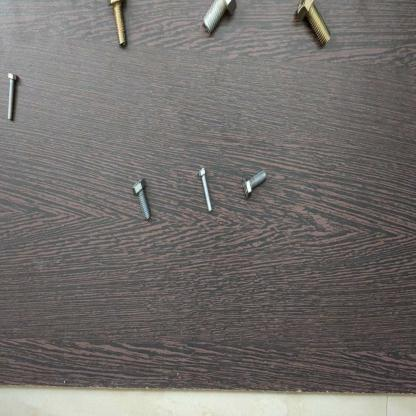Bolts: (290, 0, 334, 52), (106, 0, 134, 50), (202, 0, 236, 39), (129, 178, 156, 223), (192, 168, 217, 213), (4, 67, 24, 123), (241, 167, 268, 202)
